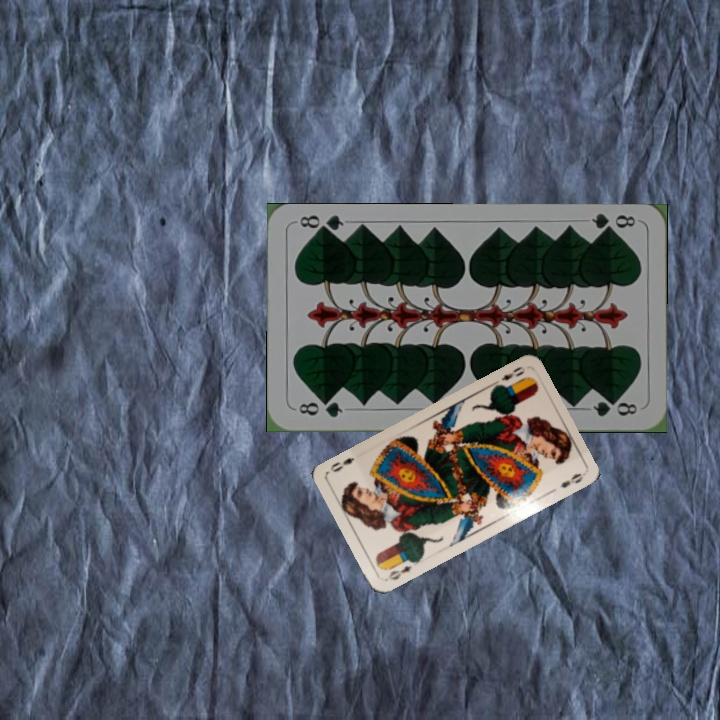EO: (382, 561, 414, 583), (497, 362, 528, 383)
G8: (588, 211, 638, 238), (294, 396, 345, 420)
